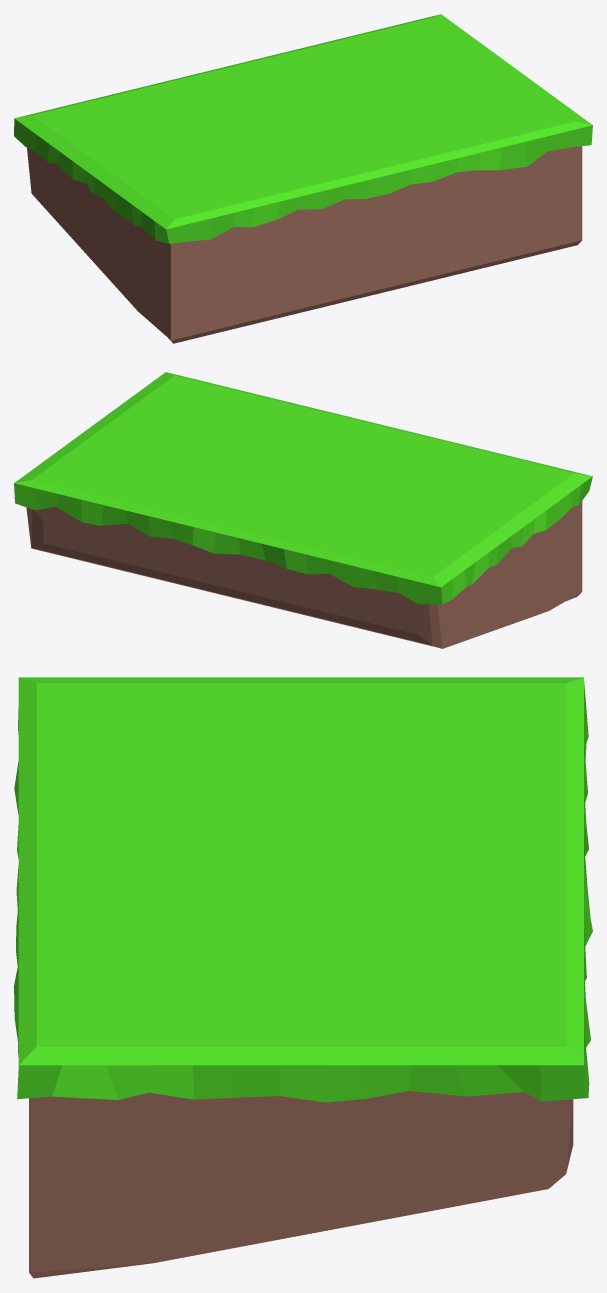
The model's file is Ground 1.fbx.
The picture shows the model from 3 angles, top to bottom: view 1: azimuth 30°, elevation 25°; view 2: azimuth 150°, elevation 25°; view 3: azimuth 270°, elevation 25°; orthographic projection. The views are drawn at different scales.
Visible parts, largest first — view 1: Plane.003; view 2: Plane.003; view 3: Plane.003.
Boxes of the visible parts, box(x1,y1,x2,y2) form: Plane.003: box(14, 14, 592, 343); Plane.003: box(14, 372, 592, 648); Plane.003: box(14, 677, 592, 1278).
Size of the model in its own units: 3763 by 1029 by 2328.
